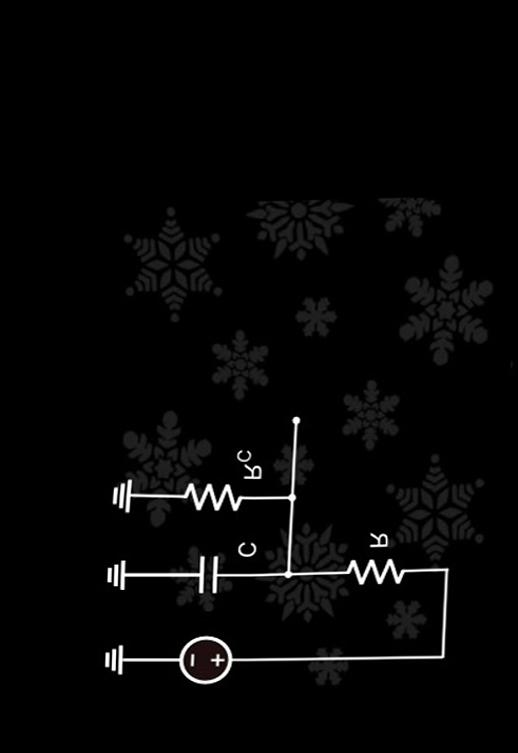Battery: (166, 613, 250, 707)
